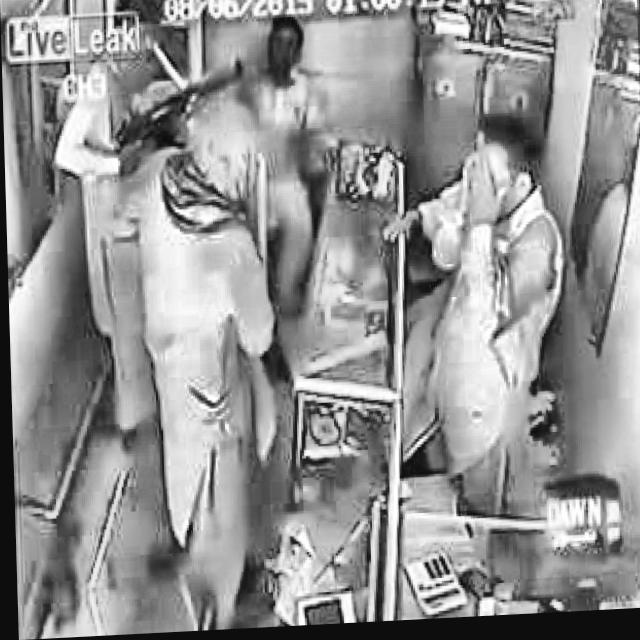robbery: (49, 0, 283, 445), (421, 87, 575, 357)
